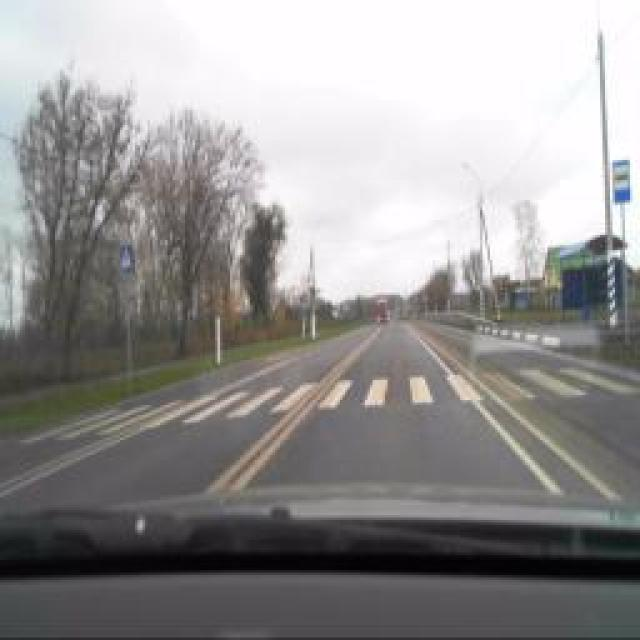sign: (118, 245, 134, 273)
